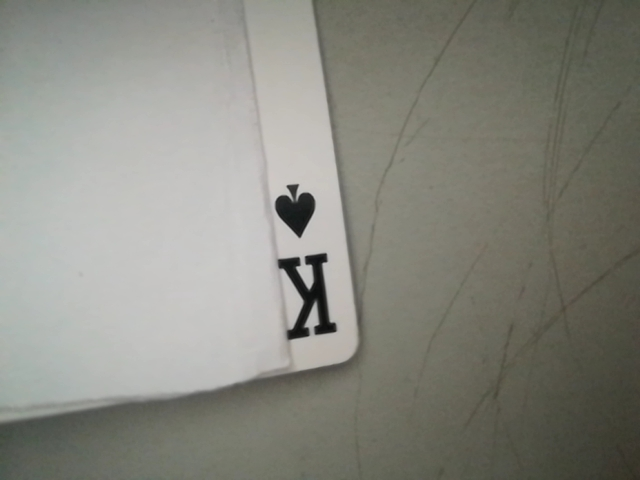ht k: (259, 174, 352, 362)
